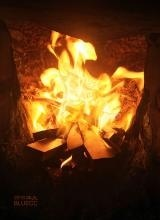fire: (24, 29, 143, 152)
